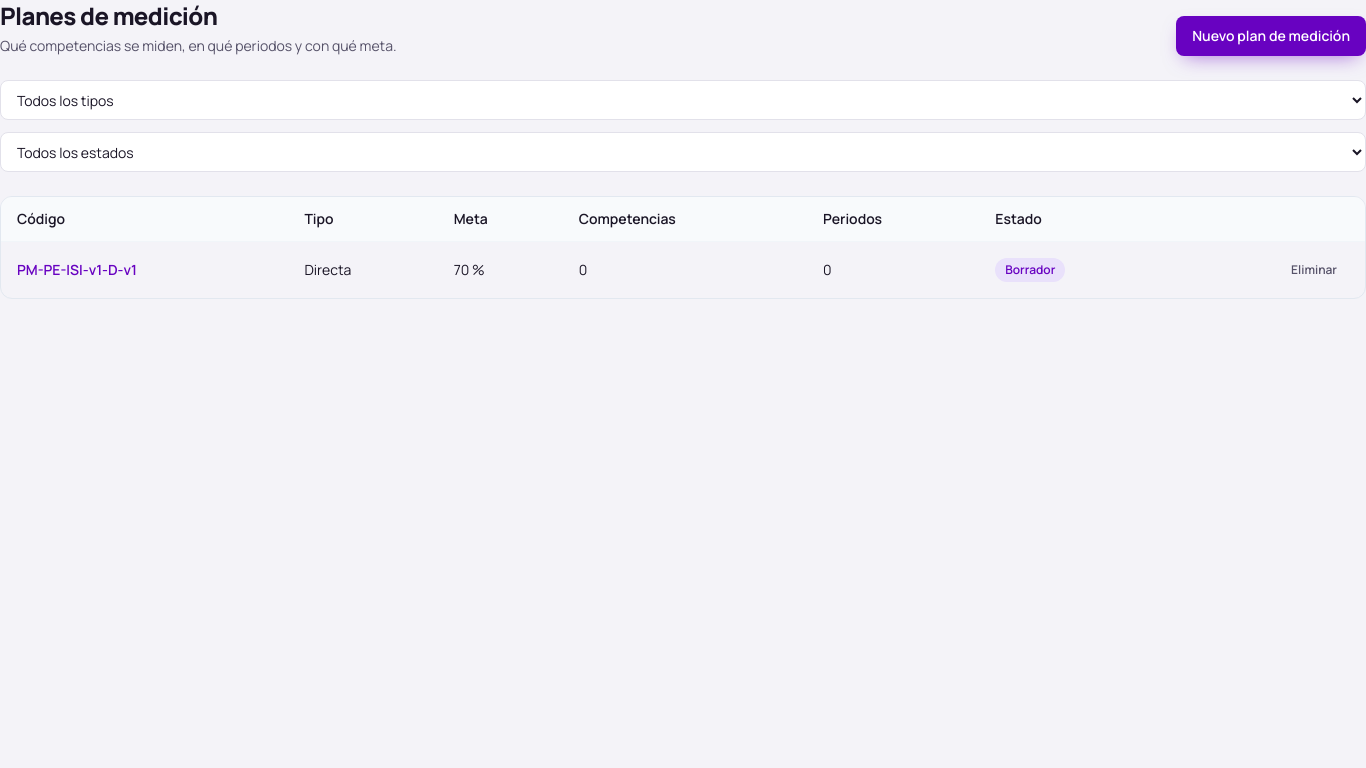
PlanesMedicionPage — el alta en la carrera de la sesión (RF-CH-033) › sin carrera asignada, el alta muestra un aviso en lugar del formulario
Click the button "Nuevo plan de medición" at x=1271, y=36, box top-left (1176, 16), bottom-right (1365, 56)
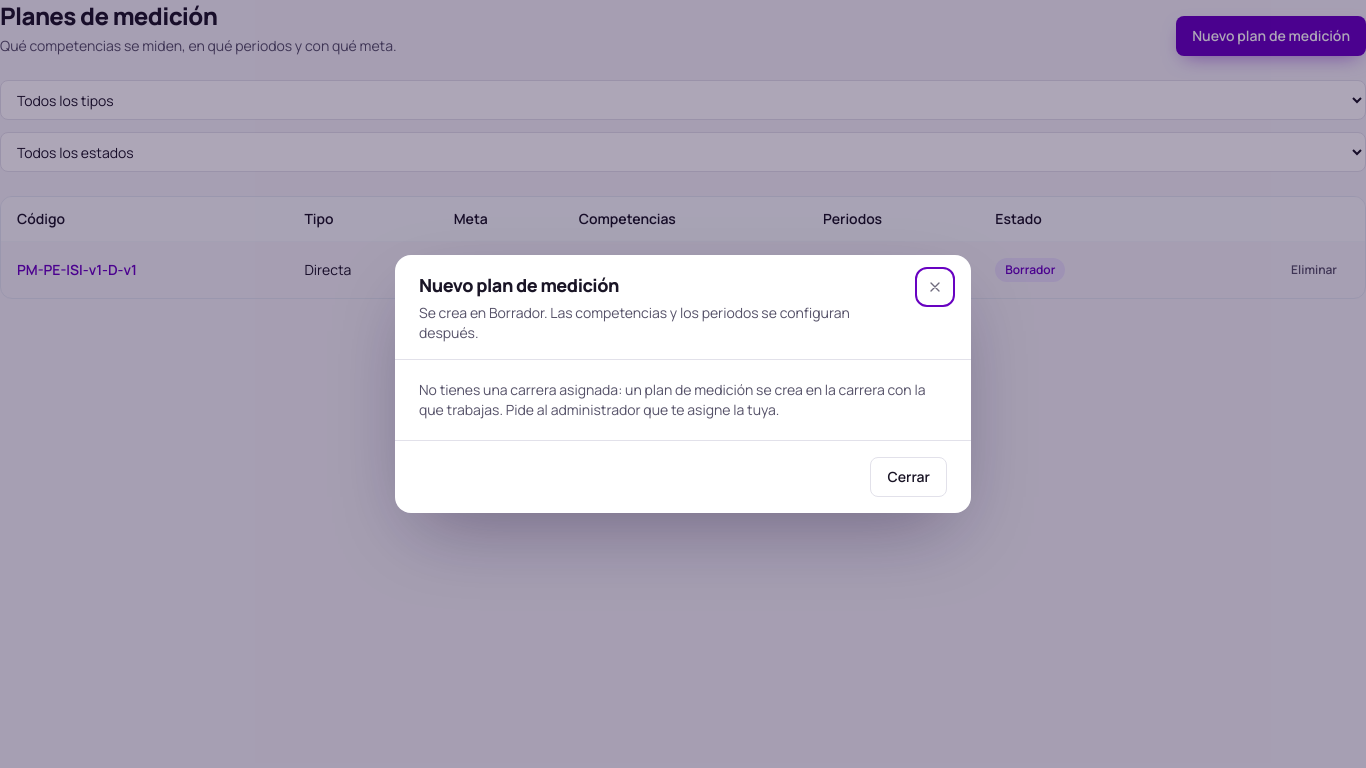
Result: the text "No tienes una carrera asignada" is shown at top-left (419, 380), bottom-right (926, 419)
